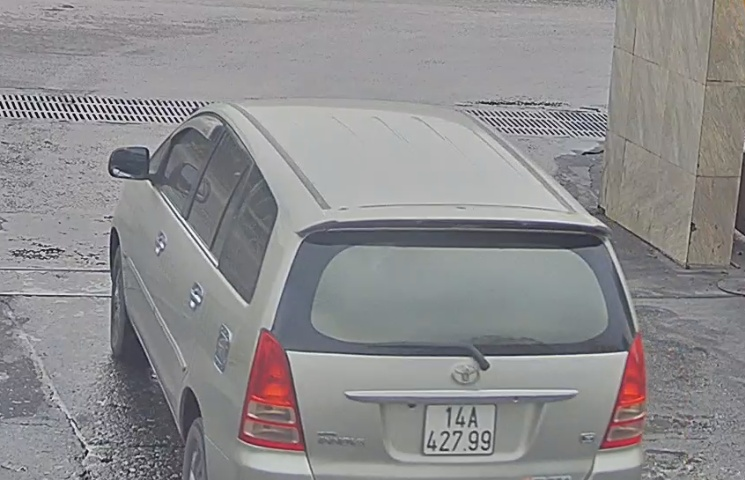vehicle plate: (421, 401, 498, 458)
